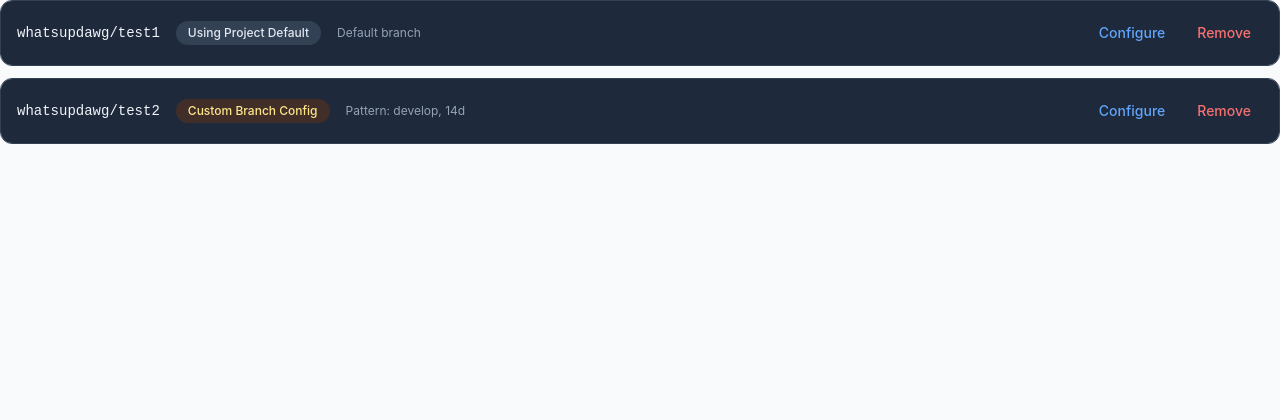
Scenario: RepoBranchOverridesPanel › clicking Configure opens inline editor and disables override fields when inheriting
// Click the Configure button for repo 1
Click the button "Configure" in the row of "Default branch" at [1132, 33], box [1087,17,1177,49]
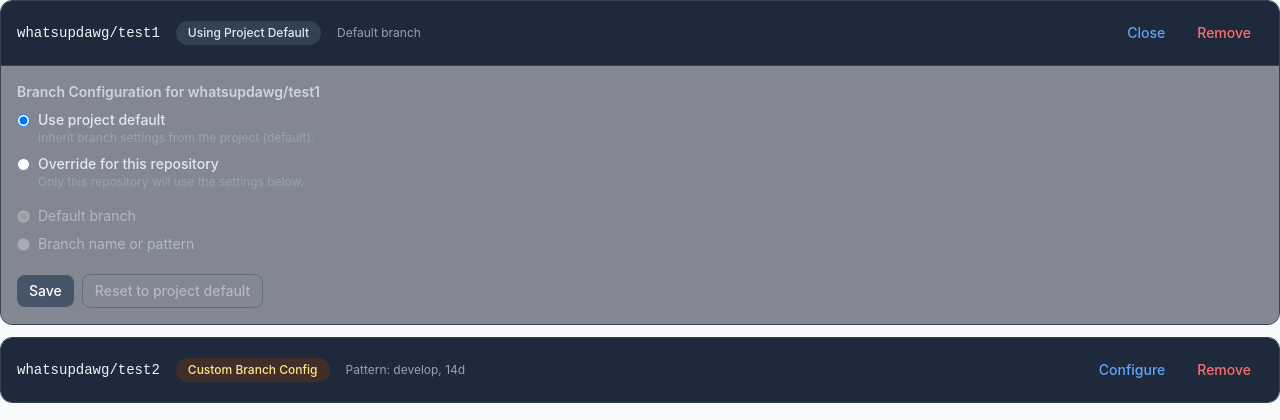
Check: the radio button with test id "mode-inherit" is checked, box [17,114,30,127]
Check: the radio button with test id "mode-override" is not checked, box [17,158,30,171]
Check: the element with test id "option-default" is disabled, box [17,207,194,252]
